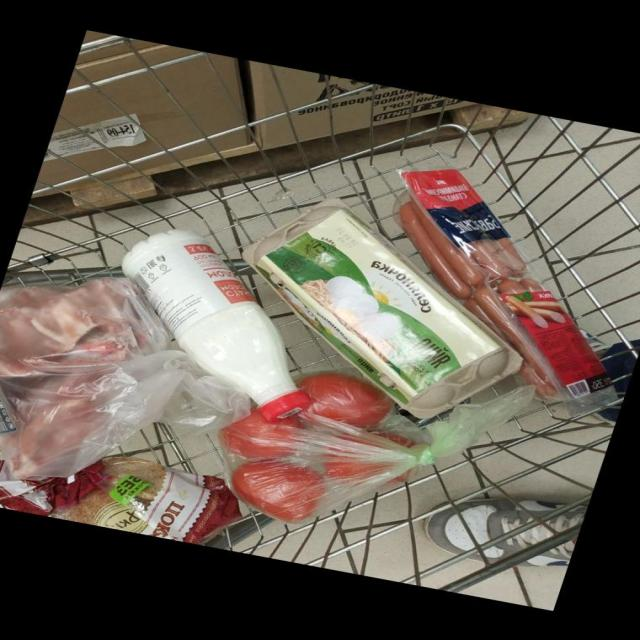Bread: (0, 456, 241, 544)
Eggs: (243, 198, 522, 416)
Meat: (0, 278, 139, 478)
Milk: (122, 228, 310, 419)
Sausages: (465, 277, 612, 403), (398, 168, 527, 299)
Tomatoes: (231, 460, 327, 521), (297, 372, 394, 427), (220, 408, 303, 459), (325, 460, 391, 479)
